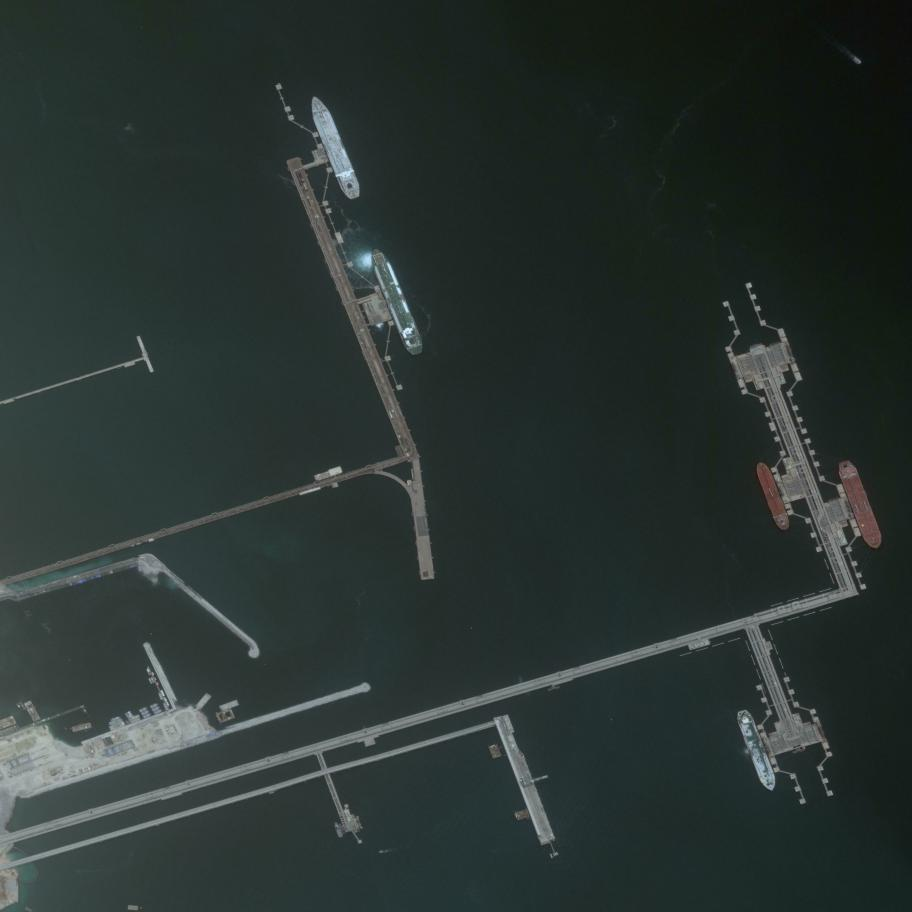ship: (366, 243, 428, 359), (306, 93, 364, 203), (835, 458, 886, 553), (734, 707, 779, 794), (753, 459, 792, 533), (313, 466, 343, 482), (23, 699, 41, 723), (195, 692, 212, 711), (488, 742, 506, 759), (219, 699, 239, 712), (71, 722, 92, 733), (514, 808, 530, 821), (109, 721, 126, 731), (333, 821, 343, 838), (108, 718, 123, 726), (128, 714, 140, 722), (18, 701, 27, 711), (130, 717, 141, 724), (377, 848, 388, 855), (339, 823, 345, 835), (127, 905, 139, 911), (139, 706, 149, 713), (110, 716, 121, 722), (143, 712, 152, 719), (162, 702, 169, 711), (141, 709, 150, 716), (154, 708, 163, 715), (150, 703, 158, 709), (152, 706, 160, 712), (146, 667, 151, 676), (158, 692, 163, 701), (125, 710, 132, 716), (160, 689, 165, 697), (126, 712, 133, 717), (127, 714, 134, 719), (150, 677, 155, 684), (148, 678, 153, 684), (16, 703, 21, 708), (166, 701, 170, 707), (154, 676, 157, 681), (164, 697, 167, 702), (152, 672, 155, 676), (157, 682, 159, 686)
